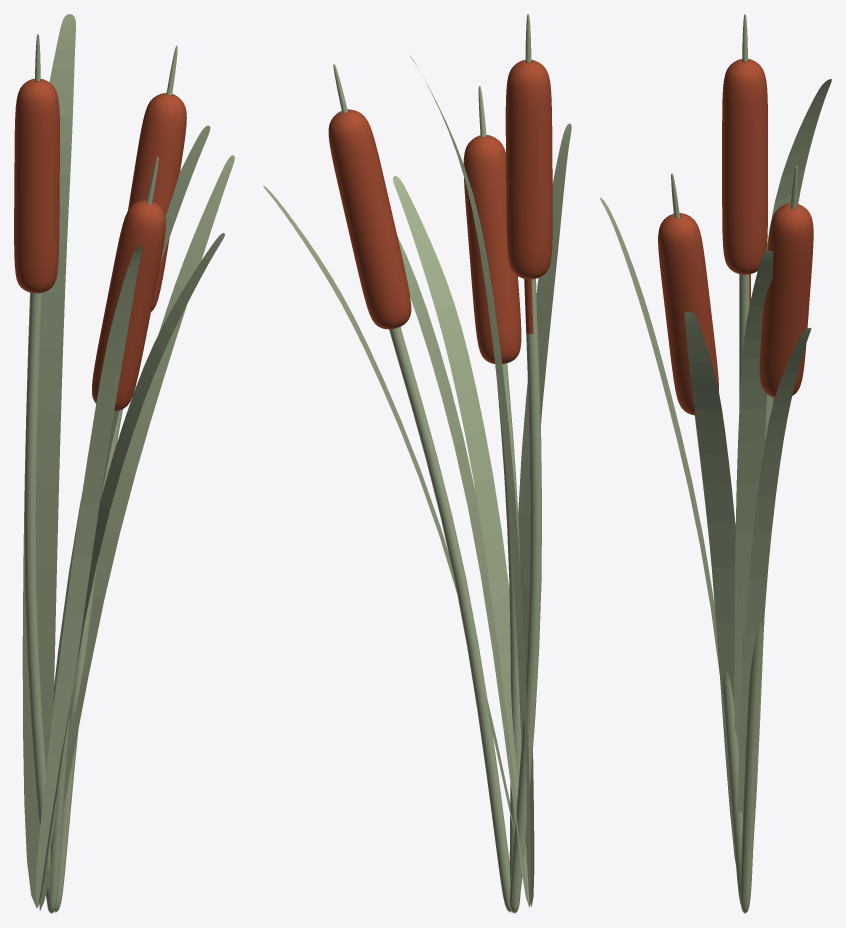
File: cattails.obj
The picture shows the model from 3 angles, left to right: view 1: azimuth 30°, elevation 25°; view 2: azimuth 150°, elevation 25°; view 3: azimuth 270°, elevation 25°; orthographic projection. The views are drawn at different scales.
Parts seen in each view (by area): view 1: Plane.001; view 2: Plane.001; view 3: Plane.001.
Boxes of the visible parts, bbox=[...] form: Plane.001: bbox=[14, 14, 234, 913]; Plane.001: bbox=[263, 14, 571, 913]; Plane.001: bbox=[600, 14, 831, 913].
Bounding box in the file's own units: 4.64 × 15.74 × 3.71.
Materials: 1 (1 with a texture image).
